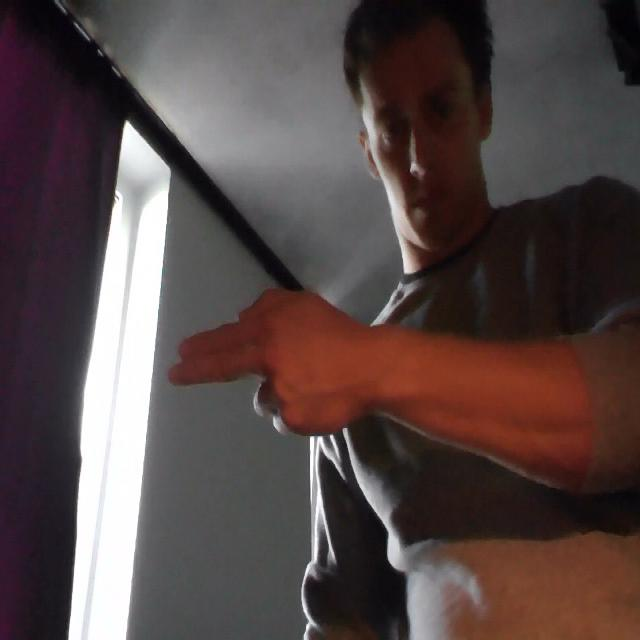left: (163, 277, 370, 451)
